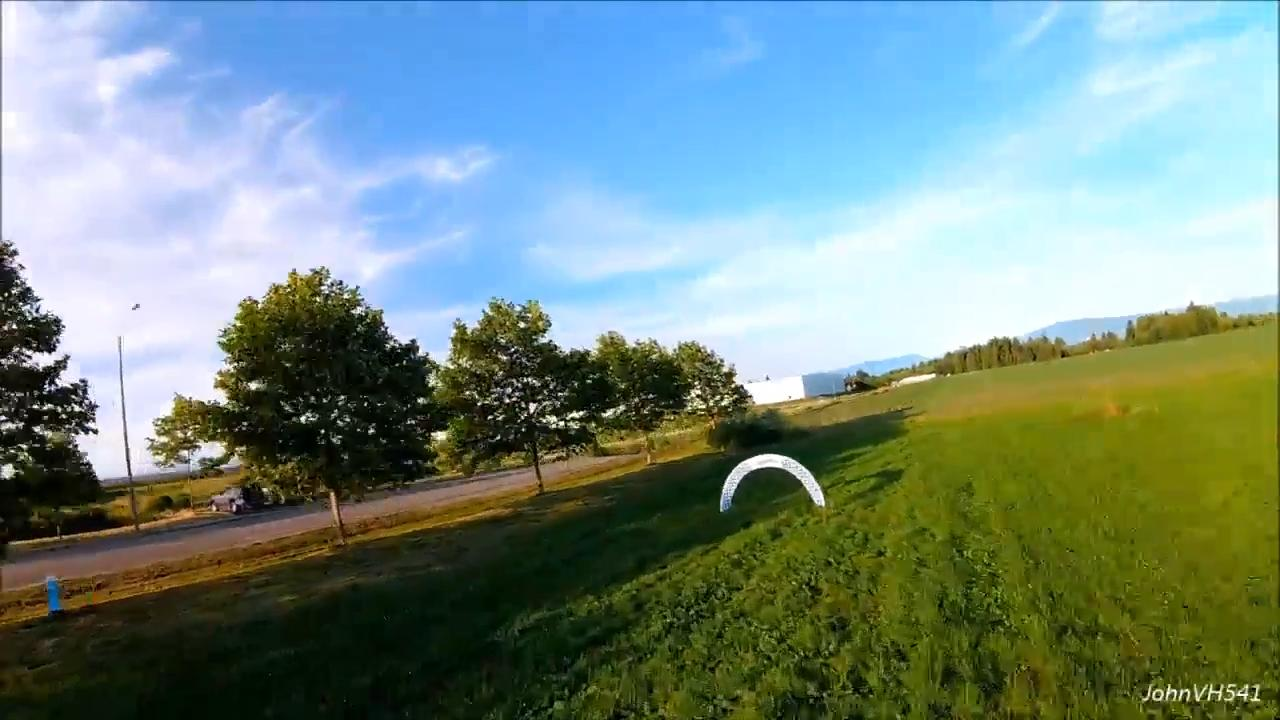gate: (715, 452, 827, 510)
